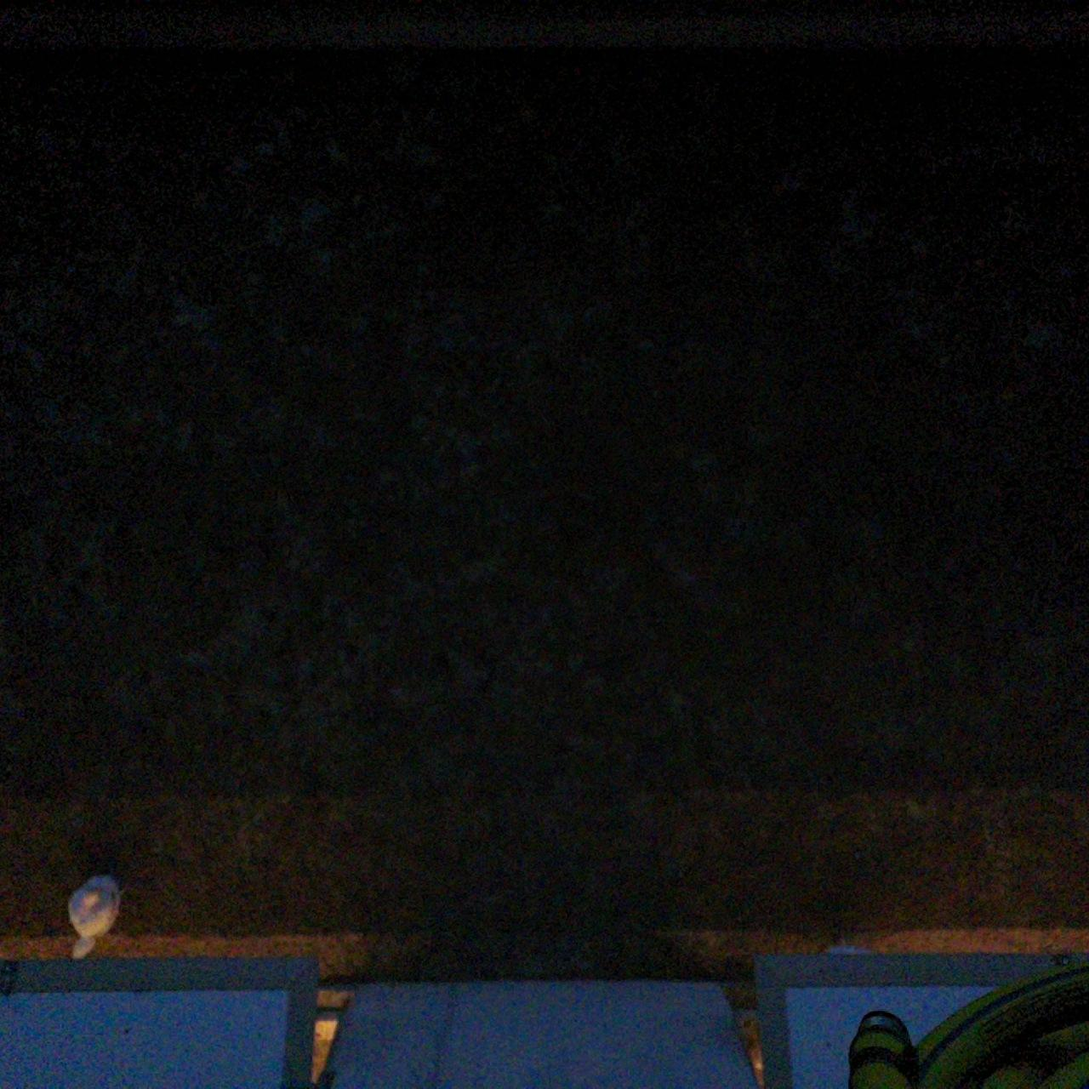chicken: (60, 868, 129, 968)
